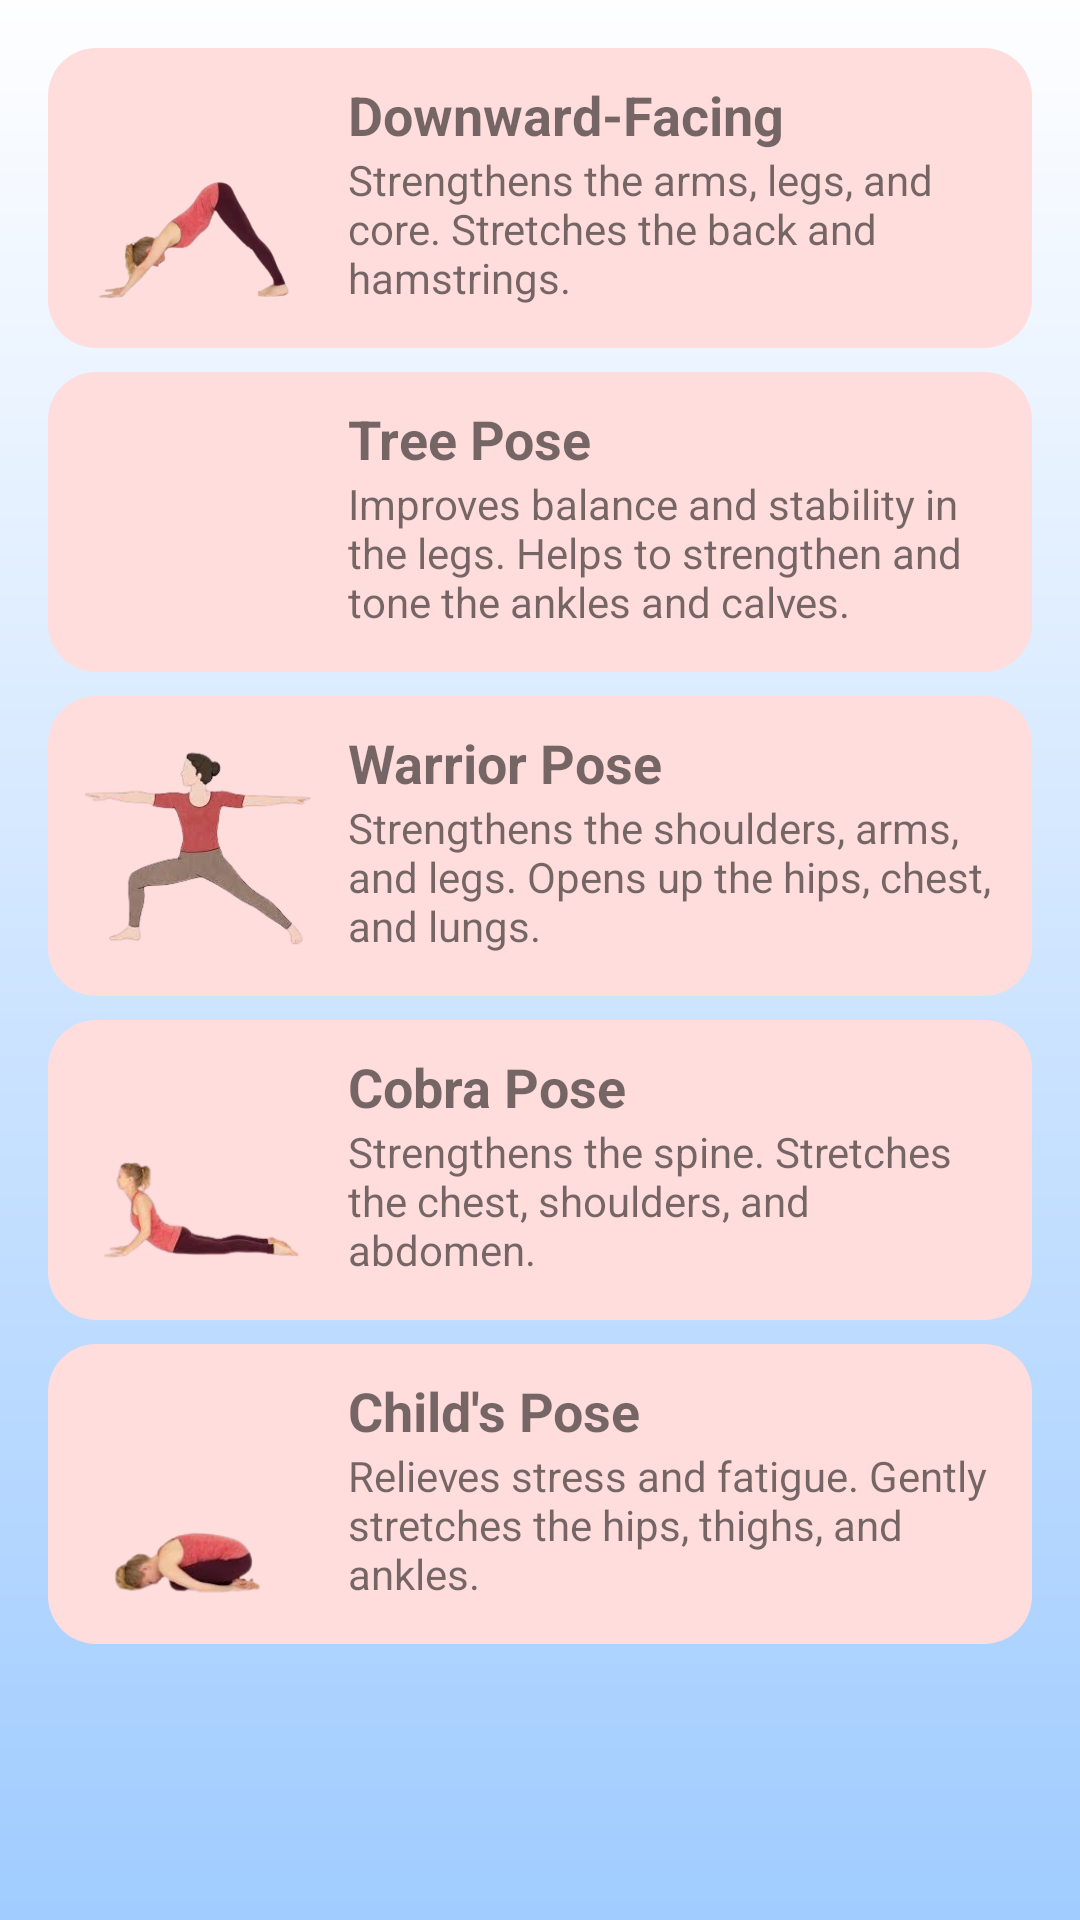

Point at icon controls on the screen. Image size 1080x1920, points as point (x, y).
childpose: point (187, 1562)
removebgdown: point (193, 240)
